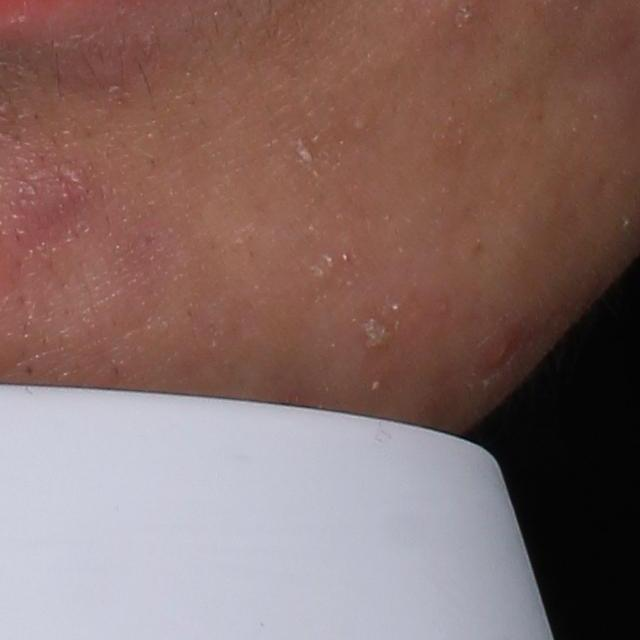papule: (476, 324, 519, 377)
